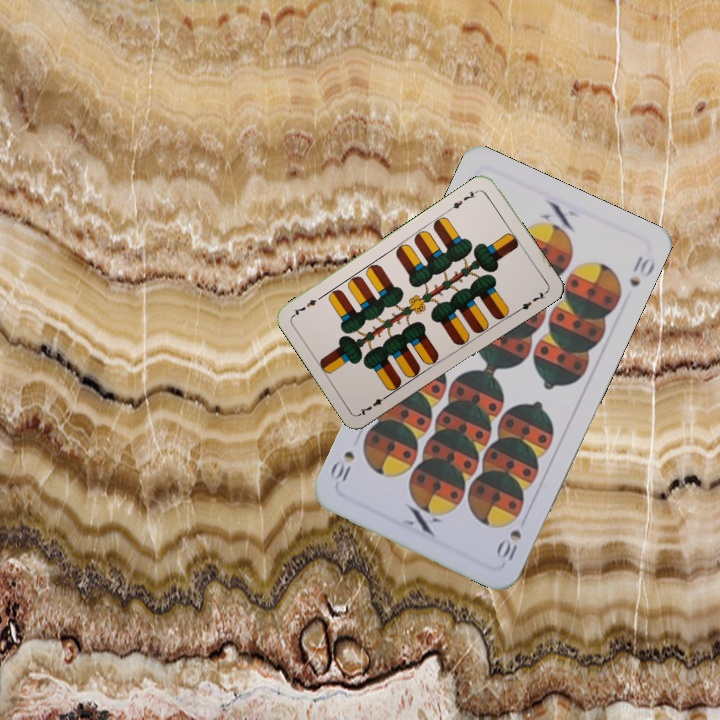E7: (445, 185, 482, 213), (356, 390, 392, 418)
S10: (492, 525, 524, 566)
